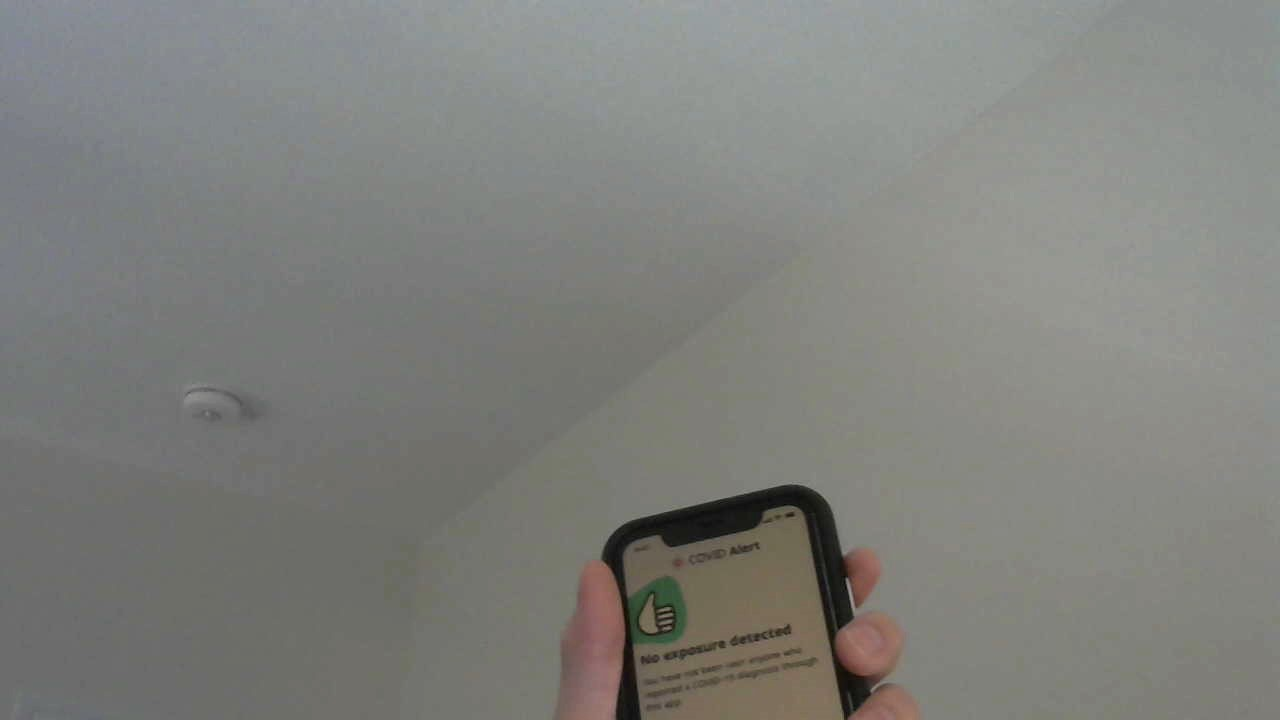Safe: (624, 578, 819, 674)
